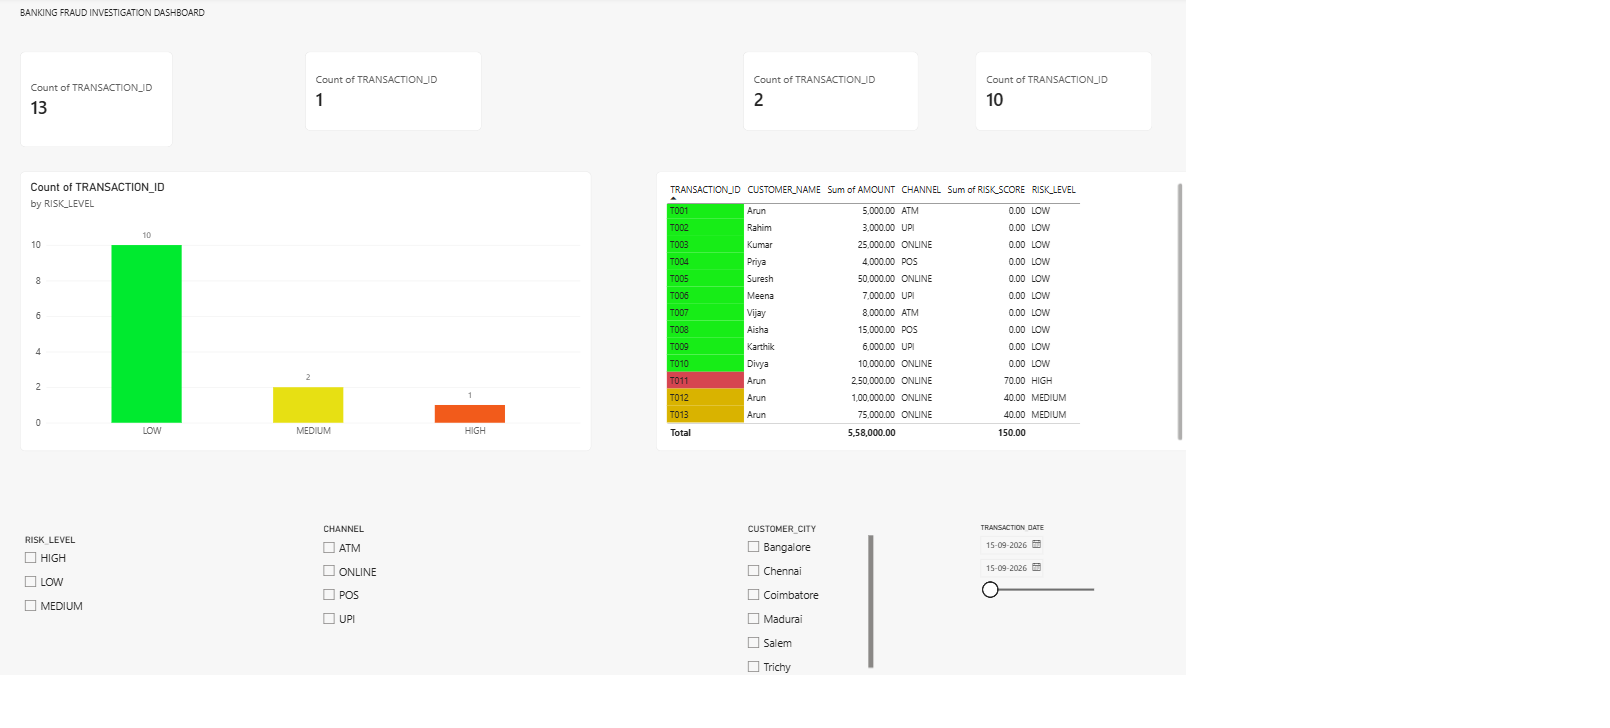

The page's visual inventory and layout, read from the dashboard file:
{"tool":"powerbi","page":{"name":"Page 1","canvas":[1920,1080],"ordinal":0},"visuals":[{"type":"cardVisual","fields":{"Data":["CountNonNull(RISK_ANALYSIS.TRANSACTION_ID)"]},"box":[52.5,88.3,243.4,152.7],"z":0},{"type":"cardVisual","fields":{"Data":["CountNonNull(RISK_ANALYSIS.TRANSACTION_ID)"]},"box":[1572.3,88.3,281.5,126.5],"z":1000},{"type":"cardVisual","fields":{"Data":["CountNonNull(RISK_ANALYSIS.TRANSACTION_ID)"]},"box":[505.8,88.3,281.5,126.5],"z":2000},{"type":"cardVisual","fields":{"Data":["CountNonNull(RISK_ANALYSIS.TRANSACTION_ID)"]},"box":[1202.5,88.3,279.2,126.5],"z":3000},{"type":"clusteredColumnChart","fields":{"Category":["RISK_ANALYSIS.RISK_LEVEL"],"Y":["CountNonNull(RISK_ANALYSIS.TRANSACTION_ID)"]},"box":[52.5,278.1,908.5,445],"z":4000},{"type":"tableEx","fields":{"Values":["RISK_ANALYSIS.TRANSACTION_ID","RISK_ANALYSIS.CUSTOMER_NAME","Sum(RISK_ANALYSIS.AMOUNT)","RISK_ANALYSIS.CHANNEL","Sum(RISK_ANALYSIS.RISK_SCORE)","RISK_ANALYSIS.RISK_LEVEL"]},"box":[1063,278.1,856,445],"z":4001},{"type":"slicer","fields":{"Values":["RISK_ANALYSIS.RISK_LEVEL"]},"box":[52.5,856.5,312.1,185.4],"z":4002},{"type":"slicer","fields":{"Values":["RISK_ANALYSIS.CHANNEL"]},"box":[527.3,839.8,241,222.5],"z":4003},{"type":"slicer","fields":{"Values":["RISK_ANALYSIS.CUSTOMER_CITY"]},"box":[1202.5,839.8,207.6,241],"z":4004},{"type":"slicer","fields":{"Values":["RISK_ANALYSIS.TRANSACTION_DATE"]},"box":[1572.3,839.8,207,129.8],"z":4005},{"type":"textbox","box":[1270,921,649,150],"z":4006},{"type":"textbox","box":[52.5,16.7,334,71.6],"z":4011}]}

Visuals, with their boxes on the page's 1920x1080 design canvas (x1, y1, x2, y2). These are canvas units, not pixel positions in the 1610x728 screenshot, which may show the page scaled, cropped or inside an application window:
cardVisual - CountNonNull(RISK_ANALYSIS.TRANSACTION_ID): (52,88,296,241)
cardVisual - CountNonNull(RISK_ANALYSIS.TRANSACTION_ID): (1572,88,1854,215)
cardVisual - CountNonNull(RISK_ANALYSIS.TRANSACTION_ID): (506,88,787,215)
cardVisual - CountNonNull(RISK_ANALYSIS.TRANSACTION_ID): (1202,88,1482,215)
clusteredColumnChart - RISK_ANALYSIS.RISK_LEVEL x CountNonNull(RISK_ANALYSIS.TRANSACTION_ID): (52,278,961,723)
tableEx - RISK_ANALYSIS.TRANSACTION_ID x RISK_ANALYSIS.CUSTOMER_NAME: (1063,278,1919,723)
slicer - RISK_ANALYSIS.RISK_LEVEL: (52,856,365,1042)
slicer - RISK_ANALYSIS.CHANNEL: (527,840,768,1062)
slicer - RISK_ANALYSIS.CUSTOMER_CITY: (1202,840,1410,1081)
slicer - RISK_ANALYSIS.TRANSACTION_DATE: (1572,840,1779,970)
textbox: (1270,921,1919,1071)
textbox: (52,17,386,88)
